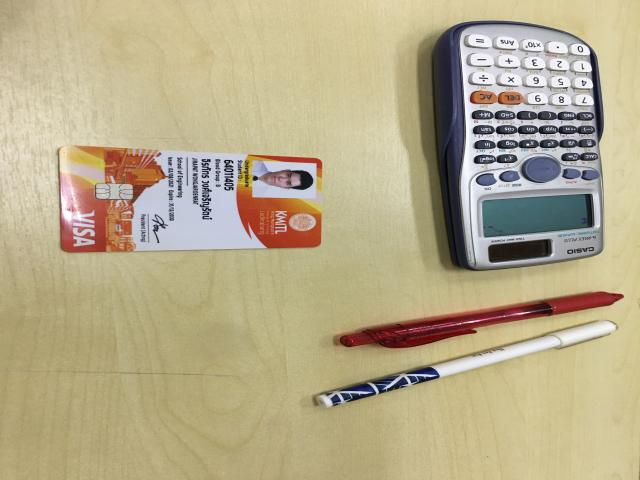Pen: (309, 292, 628, 410)
